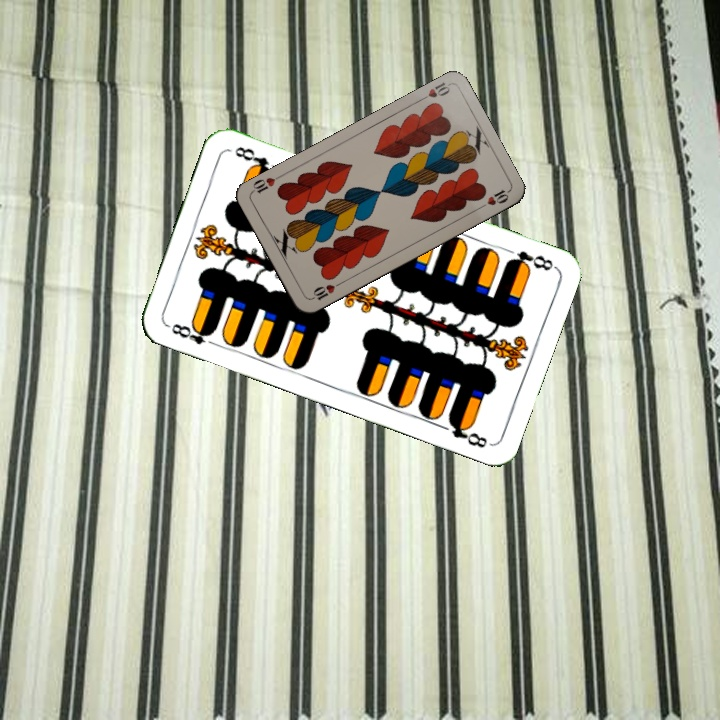E8: (167, 319, 220, 349), (502, 246, 557, 274)
H10: (414, 78, 453, 104), (307, 277, 345, 303)
